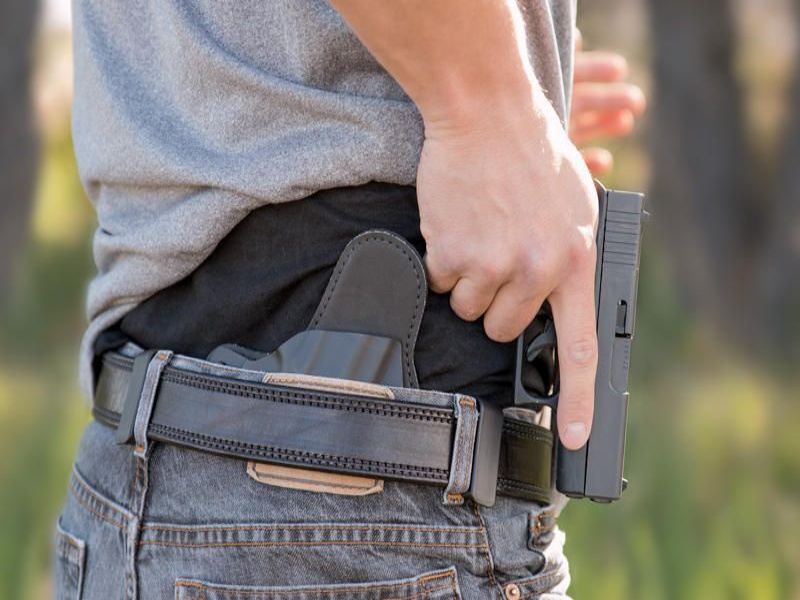gun: (519, 170, 665, 505)
